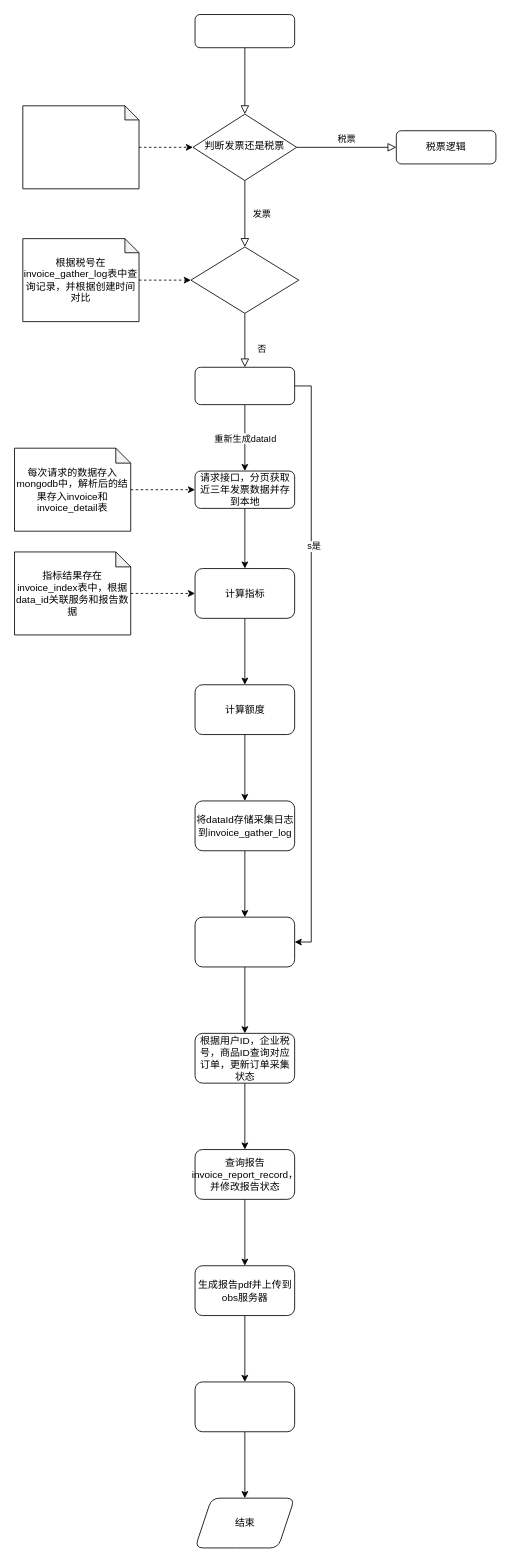
Image size: 510x1563. Some labels were removed from this diagram. The centre of each missing label's shape, as x and y in pixels:
"发送报告已生成消息" belongs at point 244,1406.
"是否三十天采集过" belongs at point 244,279.
"根据回到参数中ExtraInfo字段中dataType，tax为税务，invoice为发票；如果当前授权的是发票的，那么就不处理财税的回调" belongs at point 80,147.
"根据税号查询最新的dataId" belongs at point 244,941.
"消费topic数据" belongs at point 244,31.
"重新采集" belongs at point 244,385.
